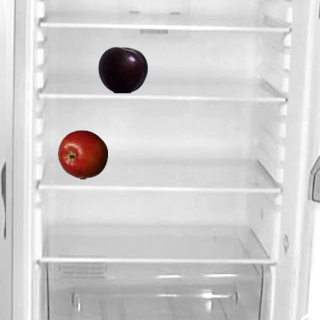Apple Braeburn: (57, 129, 107, 179)
Cherry Wax Black: (97, 44, 147, 94)
